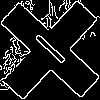I: (25, 25, 69, 67)
